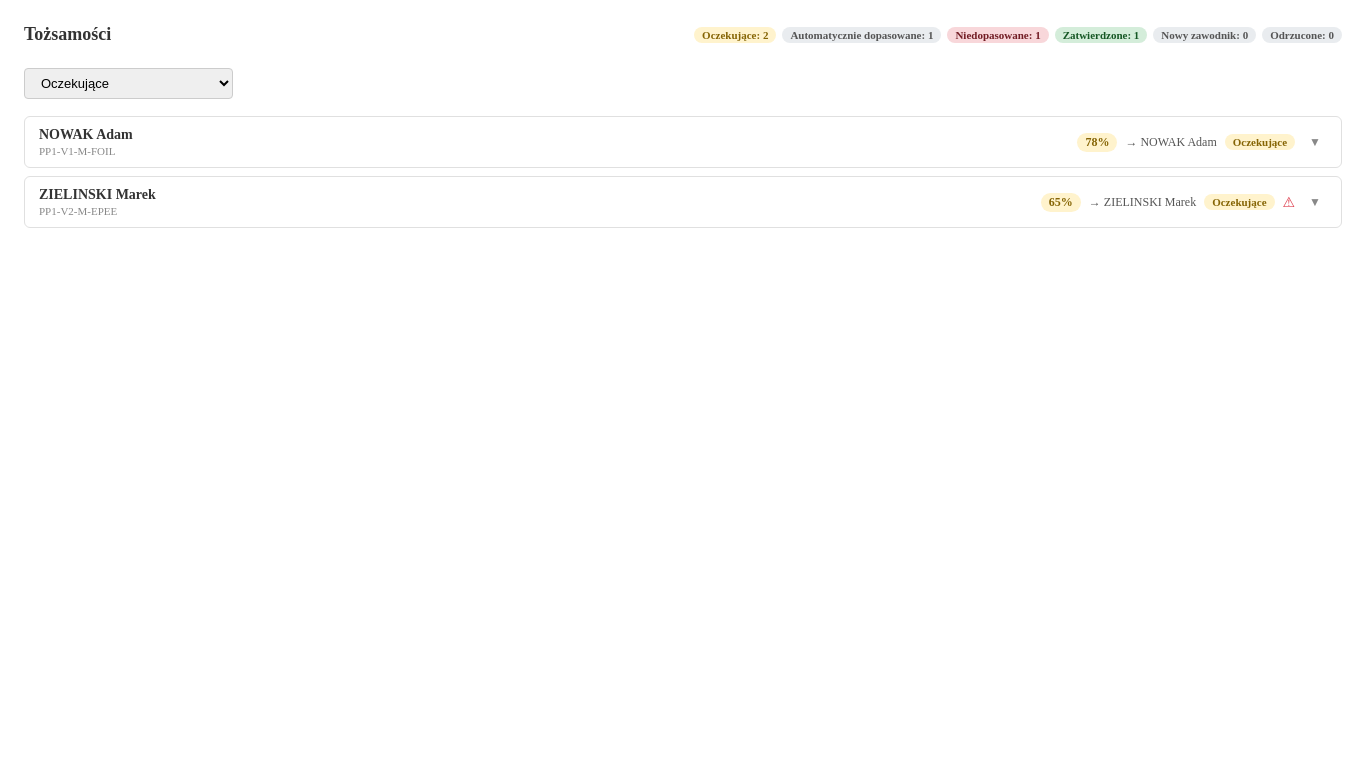
IdentityManager (T9.7) › edit form opens with fencer choice dropdown
Select "Wszystkie" in the dropdown: {"x": 128, "y": 84} [24, 68, 233, 99]
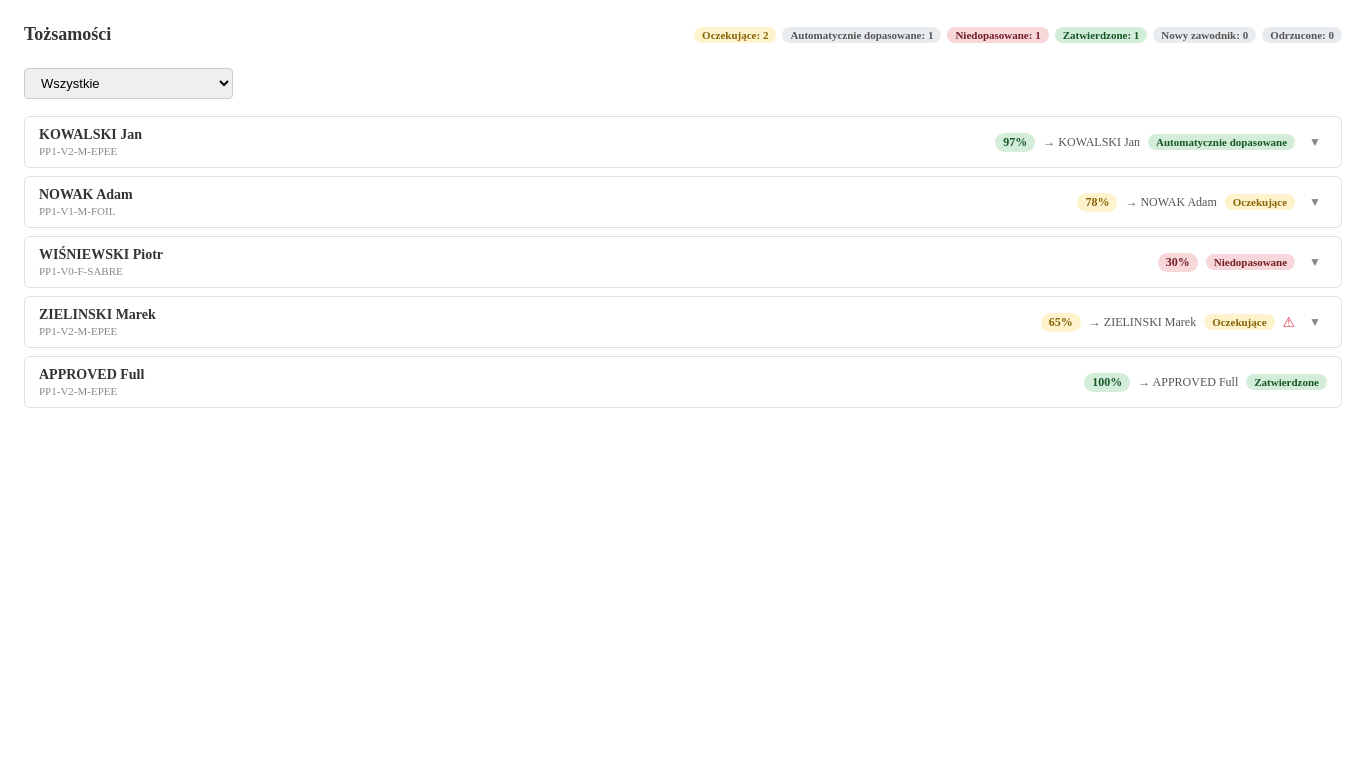
Click the 1st button "▼": {"x": 1315, "y": 142} [1303, 133, 1327, 151]
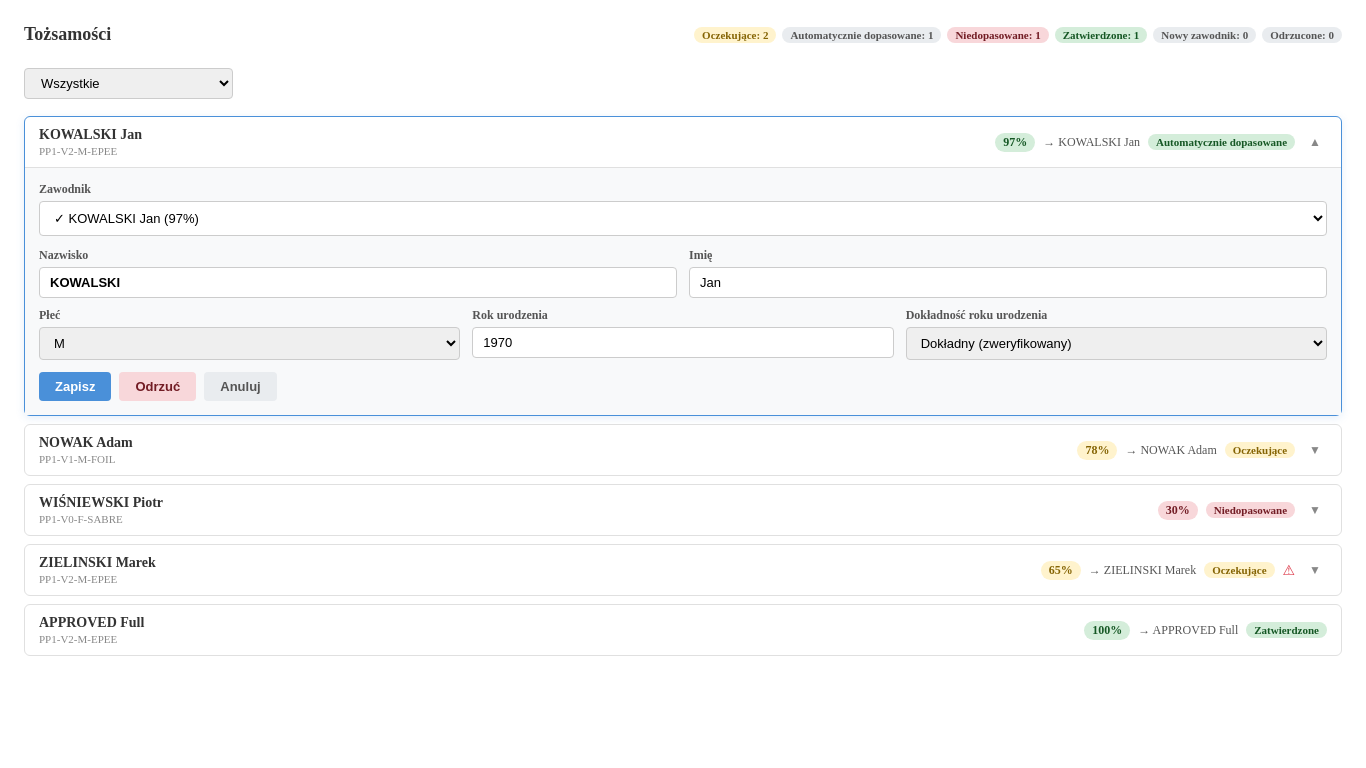
Check: the 2nd dropdown is shown, box [39, 201, 1327, 236]
